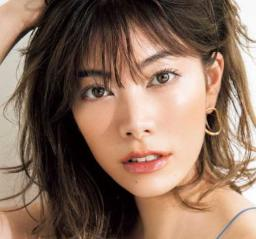face: (73, 46, 207, 198)
